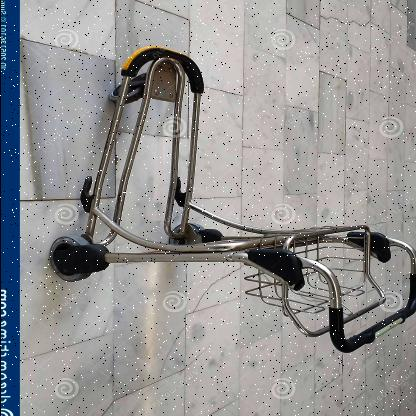airport-trolley: (43, 41, 416, 366)
